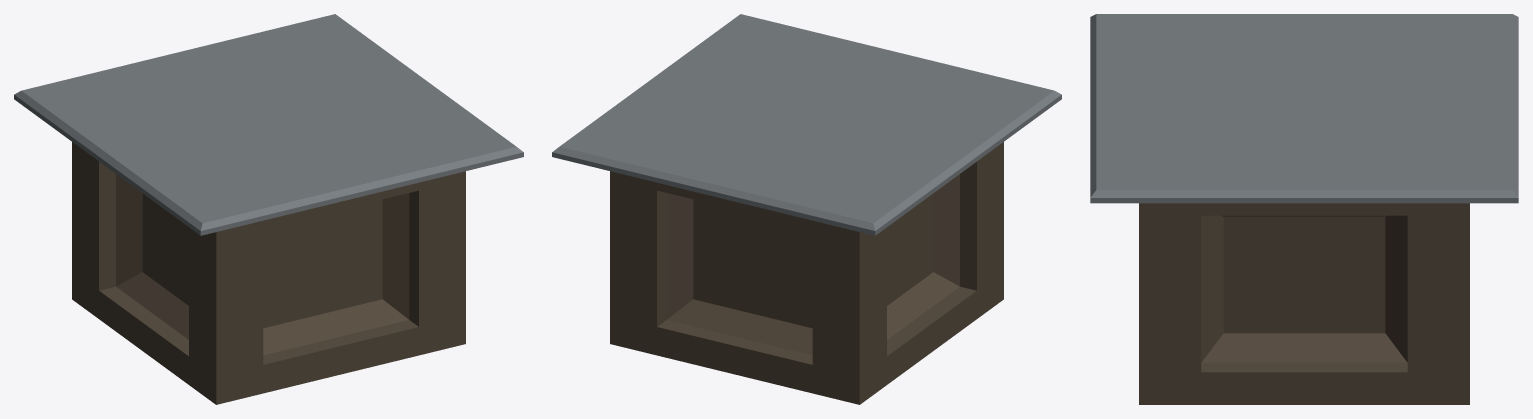
File: WM_TableWide.fbx
3 views of the same model, side by side, from view 1: azimuth 30°, elevation 25°; view 2: azimuth 150°, elevation 25°; view 3: azimuth 270°, elevation 25° (orthographic). The views are drawn at different scales.
Parts seen in each view (by area): view 1: pCube28; view 2: pCube28; view 3: pCube28.
Part boxes in pixels (x1,y1,x2,y2): pCube28: (14, 14, 523, 404); pCube28: (552, 14, 1061, 404); pCube28: (1090, 14, 1518, 404).
Size of the model in its own units: 8.29 by 4.98 by 8.29.
